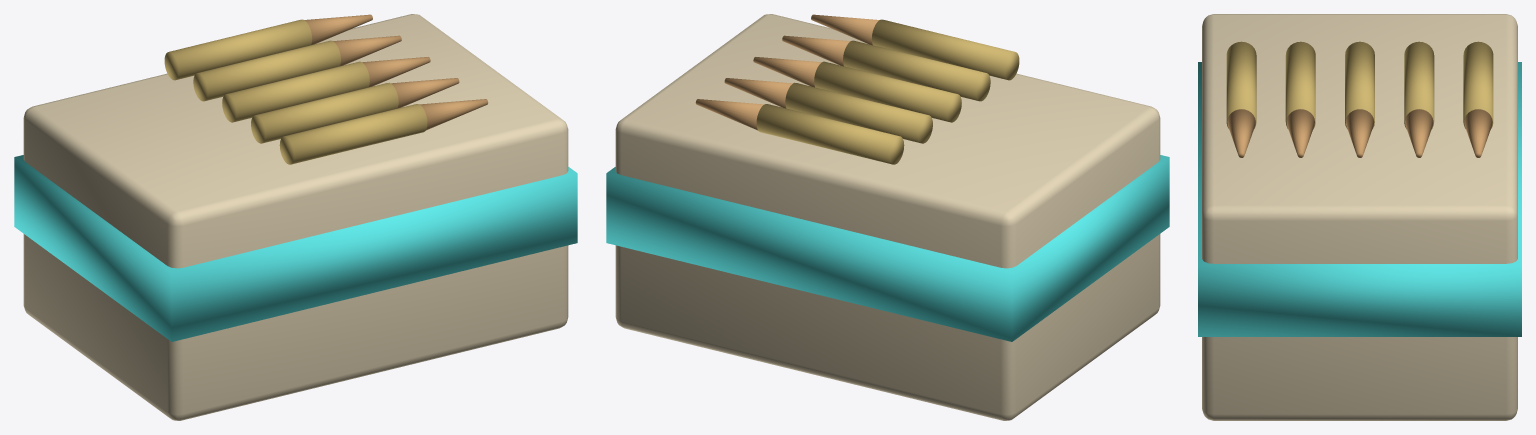
File: SM_Ammo_57.glb
3 views of the same model, side by side, from view 1: azimuth 30°, elevation 25°; view 2: azimuth 150°, elevation 25°; view 3: azimuth 270°, elevation 25° (orthographic). The views are drawn at different scales.
Parts seen in each view (by area): view 1: SM_Ammo_57; view 2: SM_Ammo_57; view 3: SM_Ammo_57.
Part boxes in pixels (x1,y1,x2,y2): SM_Ammo_57: [14, 14, 577, 420]; SM_Ammo_57: [606, 14, 1169, 420]; SM_Ammo_57: [1198, 14, 1521, 420].
Size of the model in its own units: 0.122 by 0.0698 by 0.082.
